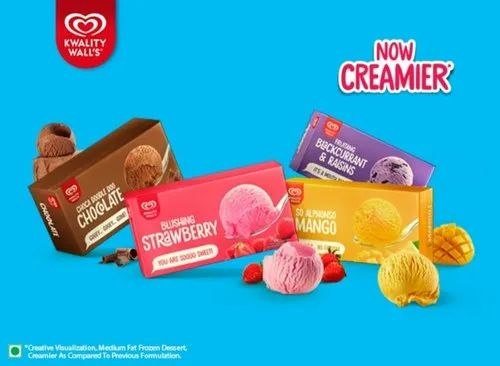Kwality_Walls: (59, 7, 114, 58), (318, 116, 340, 138), (282, 187, 305, 205), (138, 198, 159, 215), (64, 182, 80, 200)
